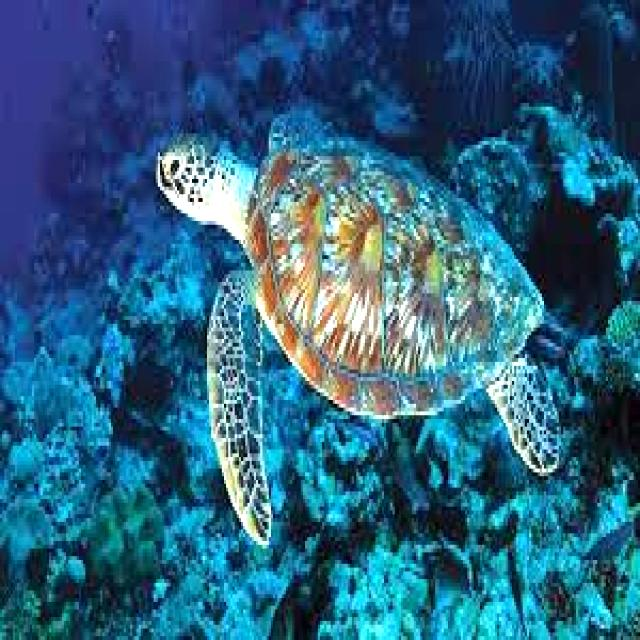Sea turtle: (151, 135, 582, 544)
